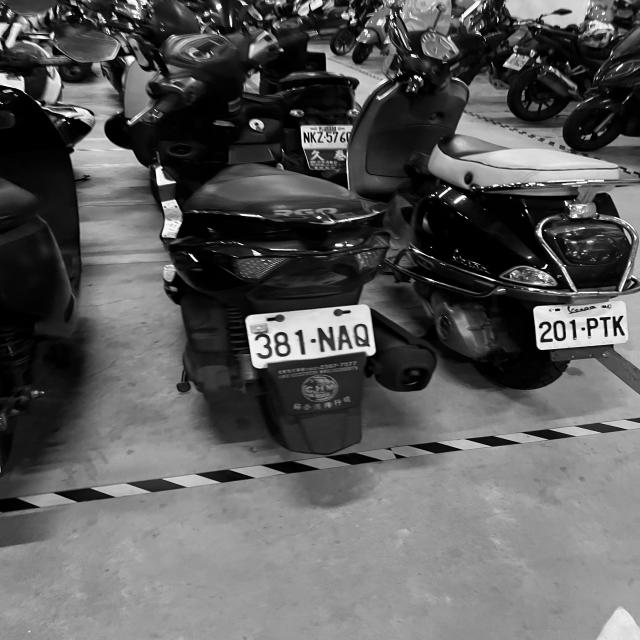-: (310, 336, 316, 344), (580, 326, 586, 332), (324, 136, 326, 138)
0: (553, 319, 567, 341)
1: (292, 328, 308, 356), (568, 318, 578, 341)
2: (538, 320, 552, 343)
3: (250, 332, 272, 361)
5: (326, 132, 332, 144)
6: (340, 130, 346, 144)
7: (332, 132, 338, 144)
8: (274, 330, 292, 356)
A: (336, 324, 354, 350)
K: (612, 315, 625, 337), (310, 132, 316, 144)
N: (316, 328, 336, 352), (302, 131, 310, 143)
P: (586, 317, 598, 339)
Q: (352, 323, 373, 349)
T: (600, 316, 612, 338)
Z: (316, 132, 324, 144)
plate: (242, 316, 383, 362), (528, 303, 633, 347)
